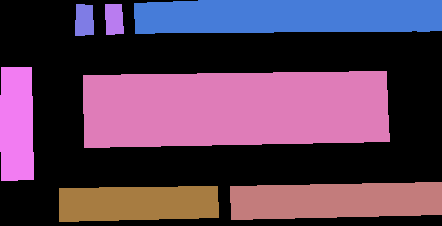parkingspot: (83, 71, 387, 113), (84, 106, 389, 147), (134, 0, 442, 33), (230, 182, 442, 219), (59, 186, 218, 221), (0, 67, 33, 180), (75, 4, 93, 35), (105, 4, 123, 34)
